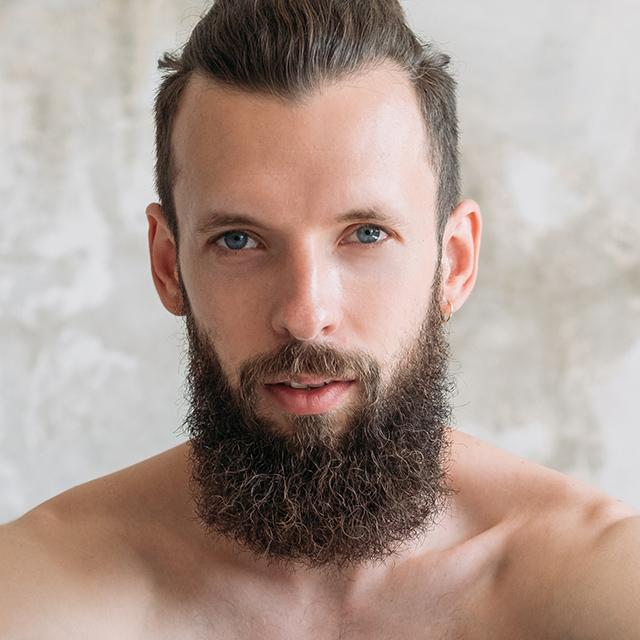beard: (185, 286, 454, 570)
hair: (154, 0, 460, 228)
